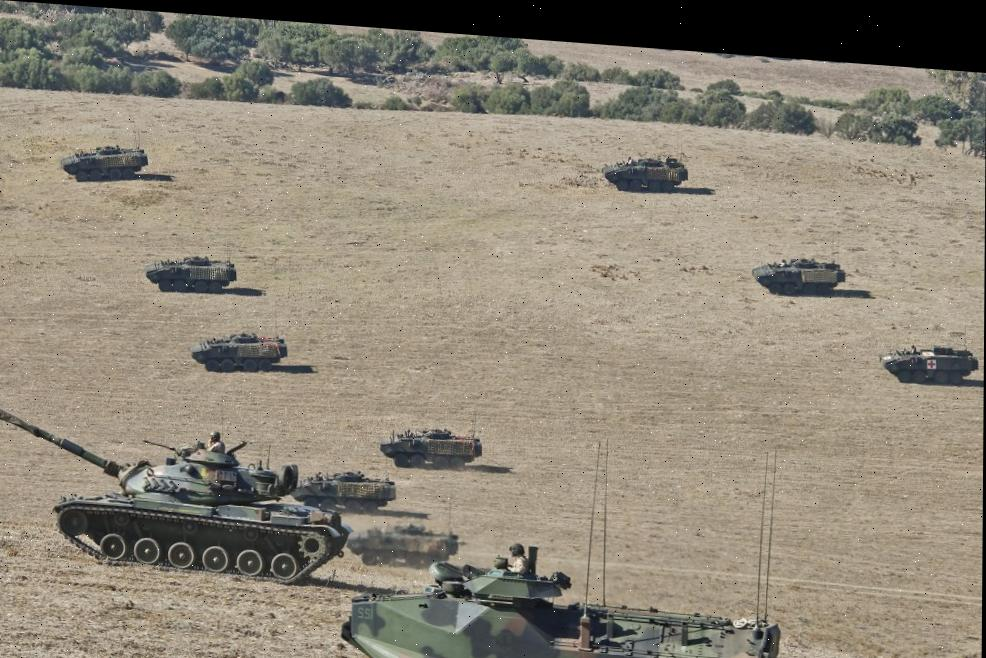armored_car: (339, 526, 778, 658), (290, 469, 411, 515), (378, 424, 483, 474), (189, 327, 290, 377), (751, 250, 847, 299), (880, 341, 978, 388), (143, 251, 238, 296), (59, 140, 148, 186), (601, 150, 689, 196)
tank: (0, 388, 347, 587)
